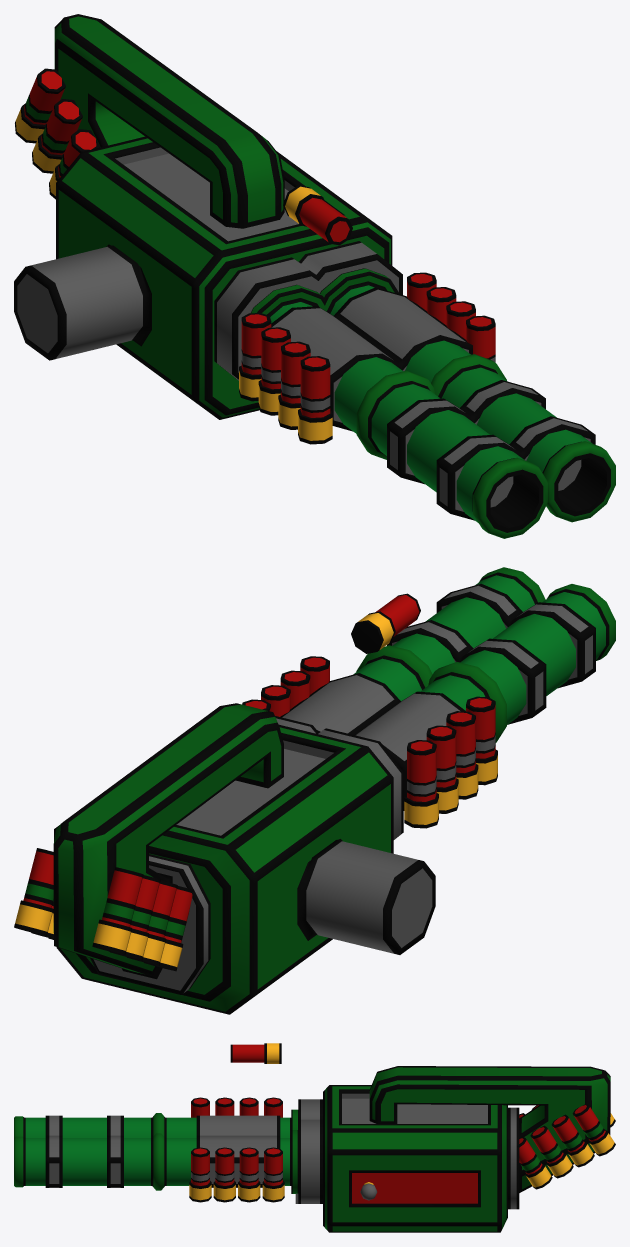
Rendered from 24 Gauge Shotgun.fbx.
The picture shows the model from 3 angles, top to bottom: view 1: azimuth 30°, elevation 25°; view 2: azimuth 150°, elevation 25°; view 3: azimuth 270°, elevation 25°; orthographic projection. The views are drawn at different scales.
Visible parts, largest first — view 1: 24 Gauge Shotgun Main, 24 Gauge Shotgun Barrel, 24 Gauge Shotgun Shell; view 2: 24 Gauge Shotgun Main, 24 Gauge Shotgun Barrel, 24 Gauge Shotgun Shell; view 3: 24 Gauge Shotgun Main, 24 Gauge Shotgun Barrel, 24 Gauge Shotgun Bolt, 24 Gauge Shotgun Shell.
Boxes of the visible parts, box(x1,y1,x2,y2) form: 24 Gauge Shotgun Main: box(14, 14, 402, 419); 24 Gauge Shotgun Barrel: box(239, 268, 615, 538); 24 Gauge Shotgun Shell: box(283, 185, 352, 245); 24 Gauge Shotgun Main: box(14, 703, 435, 1014); 24 Gauge Shotgun Barrel: box(242, 567, 615, 828); 24 Gauge Shotgun Shell: box(351, 593, 420, 653); 24 Gauge Shotgun Main: box(298, 1066, 615, 1232); 24 Gauge Shotgun Barrel: box(14, 1097, 298, 1203); 24 Gauge Shotgun Bolt: box(352, 1173, 477, 1203); 24 Gauge Shotgun Shell: box(230, 1043, 281, 1063).
Bounding box in the file's own units: 0.8957 × 2.43 × 0.6999.
